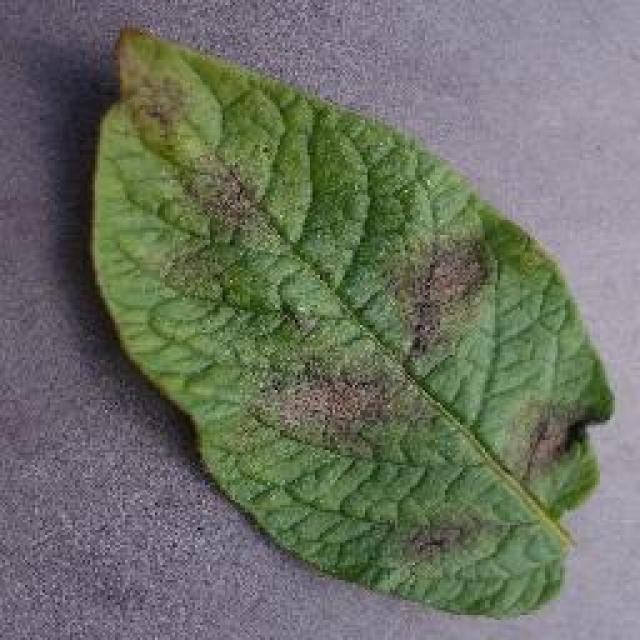late_blight: (82, 20, 618, 622)
